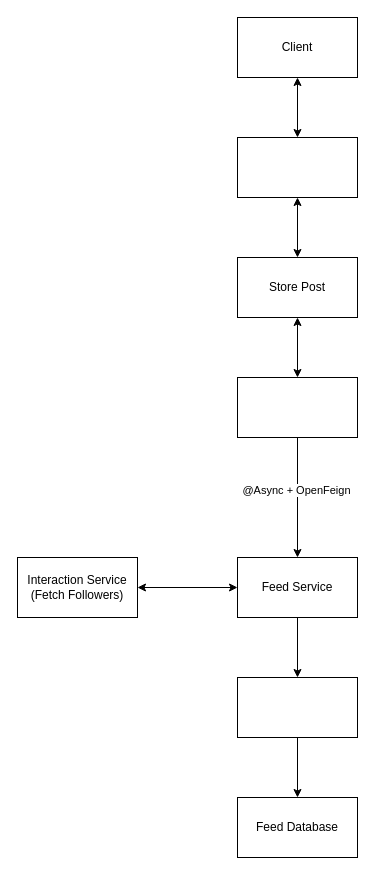
Image size: 375x875. Some labels were removed from this diagram. Here are the shapes that lost their labels. From the top down, the centre of each, then its label:
At pixel 297 167: "Post Service".
At pixel 297 407: "Return Response".
At pixel 297 707: "Generate Feed Entries".
